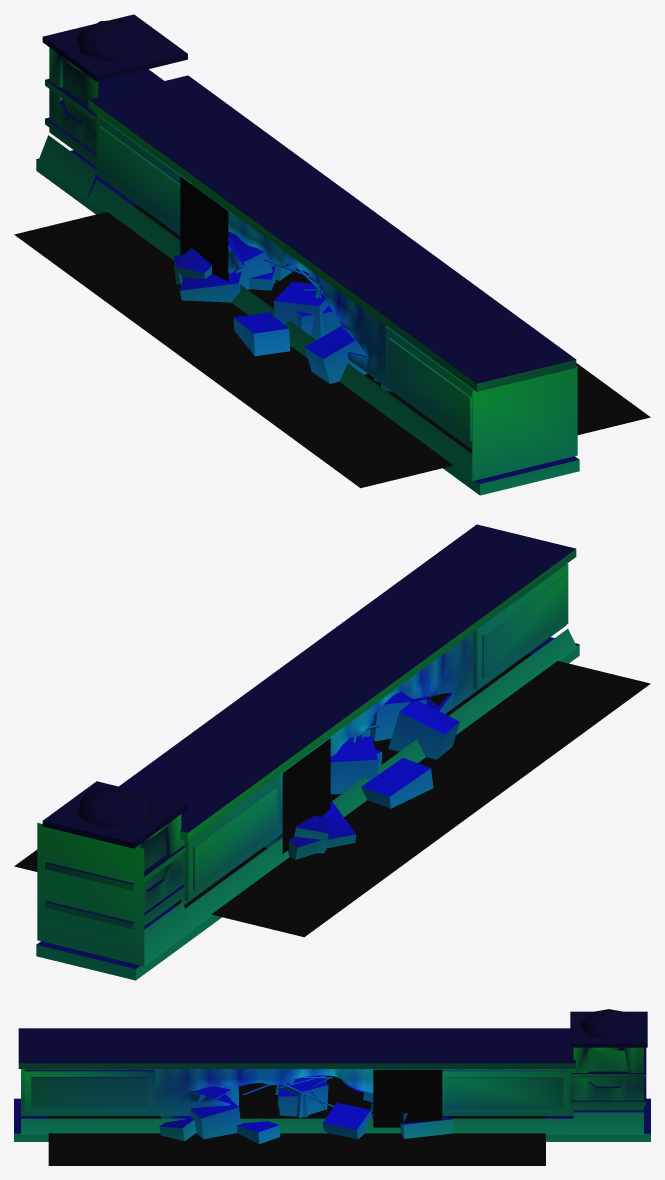
File: s_lightwall_damaged.glb
3 views of the same model, one above another, from view 1: azimuth 30°, elevation 25°; view 2: azimuth 150°, elevation 25°; view 3: azimuth 270°, elevation 25° (orthographic). The views are drawn at different scales.
Parts seen in each view (by area): view 1: lod0; view 2: lod0; view 3: lod0.
Part boxes in pixels (bbox=[...]): lod0: bbox=[14, 14, 650, 495]; lod0: bbox=[14, 524, 650, 980]; lod0: bbox=[14, 1009, 650, 1165].
Size of what is drawn, in the model's own units: 10.5 by 5.36 by 27.79.
